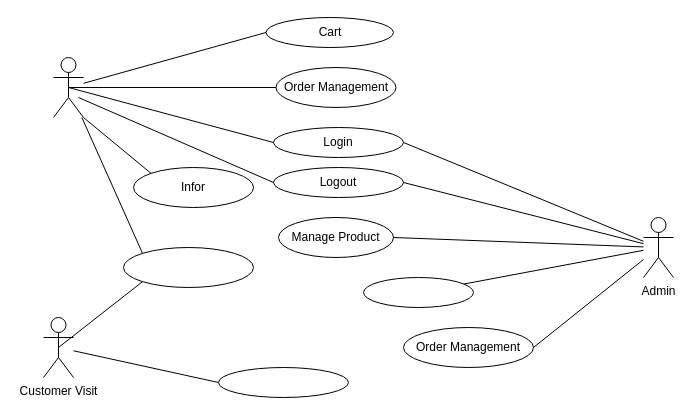
This 692x416 diagram has some shape labels left out. Each missing label, with the centre of its shape:
Manage User: the point at 418,292
Potential Customer: the point at 68,87
Product: the point at 188,267
Register: the point at 283,382
